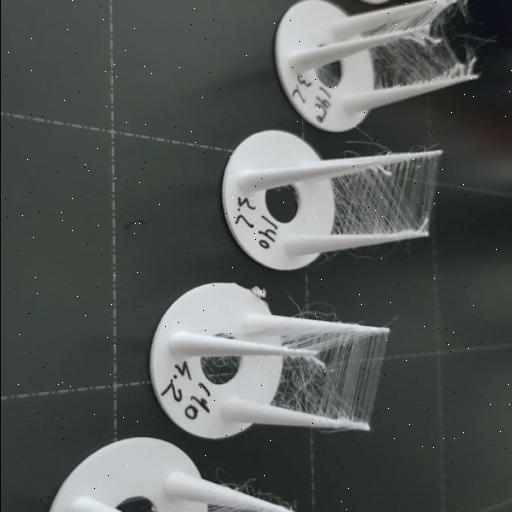stringing: (268, 334, 385, 424), (360, 4, 475, 89), (330, 154, 439, 235), (203, 358, 238, 370)
